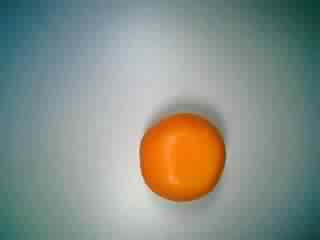orange: (128, 106, 230, 202)
